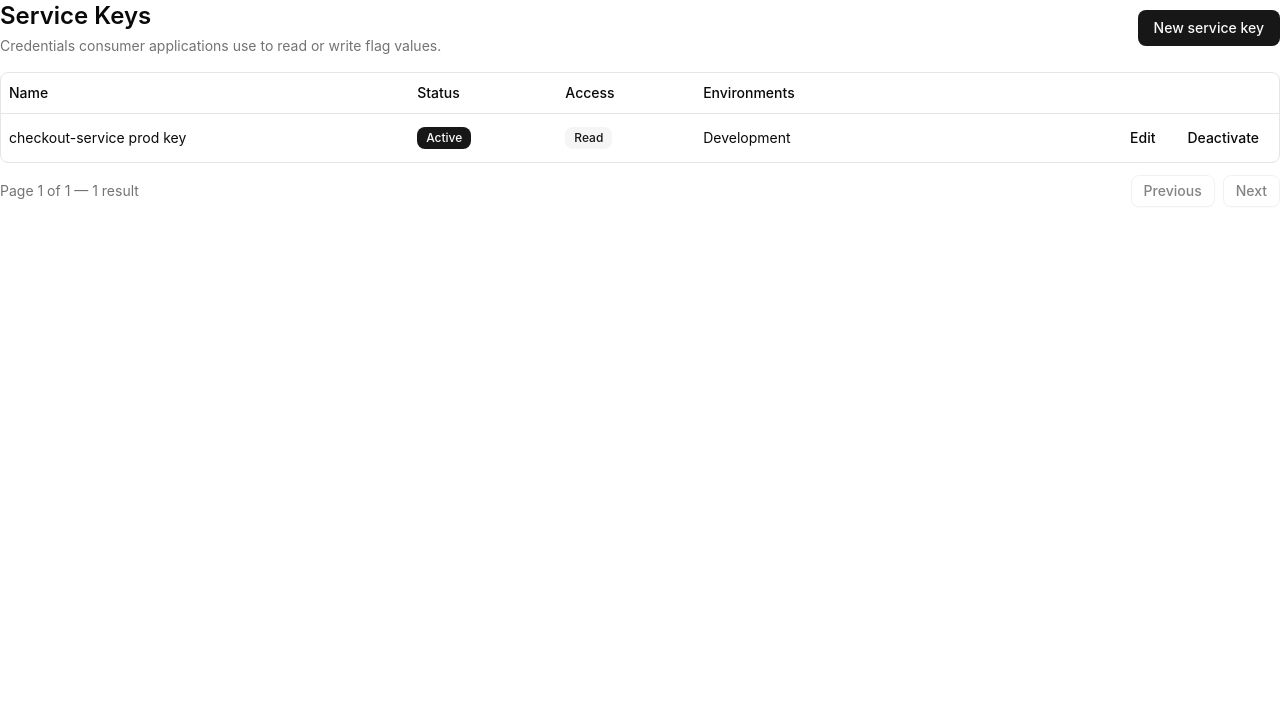
Test case: ServiceKeysPage › deactivates a service key after confirming, and shows a success toast
Check: the text "checkout-service prod key" is shown, box [1, 113, 409, 162]
Click the button "Deactivate" at (1223, 138), box [1176, 122, 1271, 154]
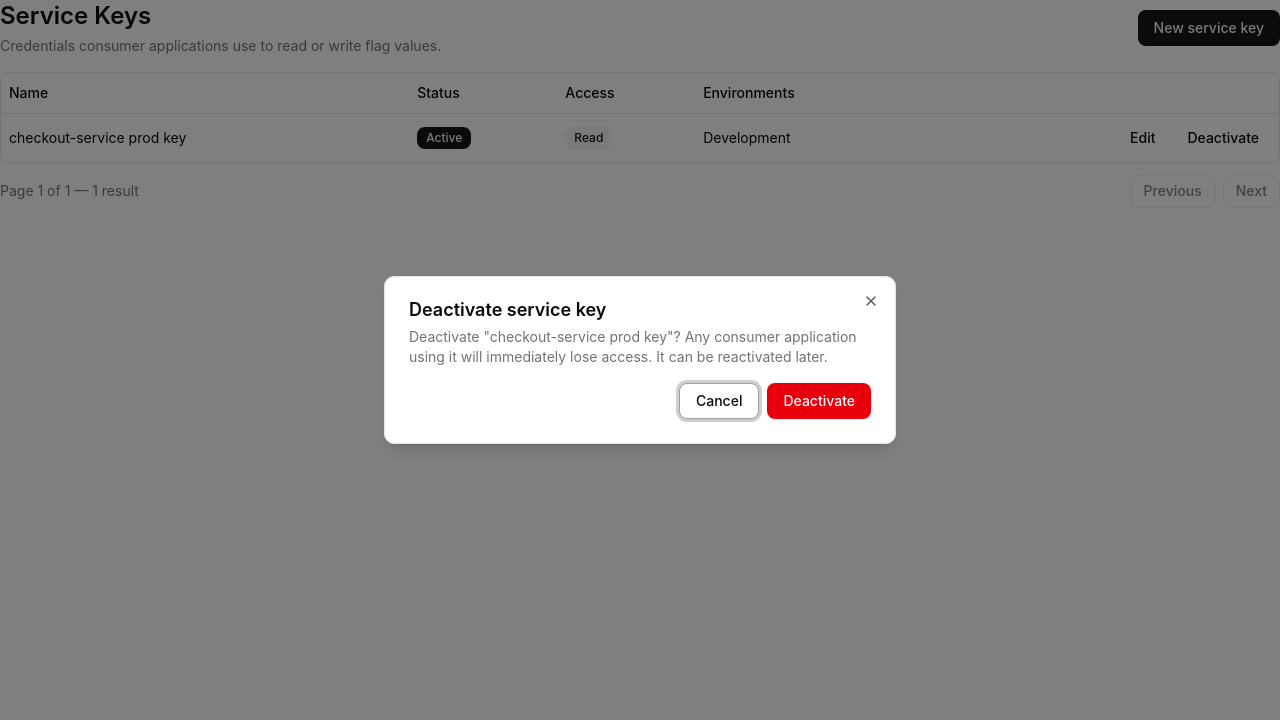
Check: the heading "Deactivate service key" is shown, box [409, 299, 606, 320]
Check: the text "Deactivate \"checkout-service prod key\"?" is shown, box [409, 328, 857, 365]
Click the button "Deactivate" at (819, 401), box [768, 383, 871, 419]
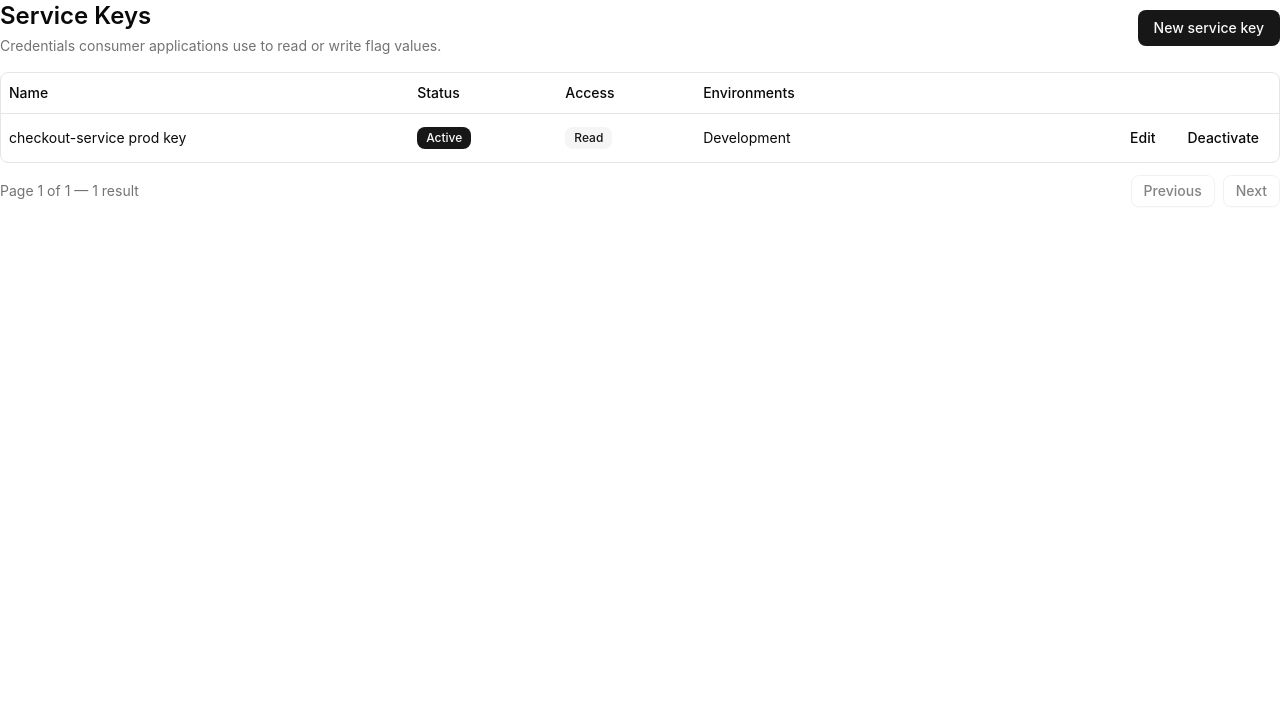
Check: the heading "Deactivate service key" is gone
